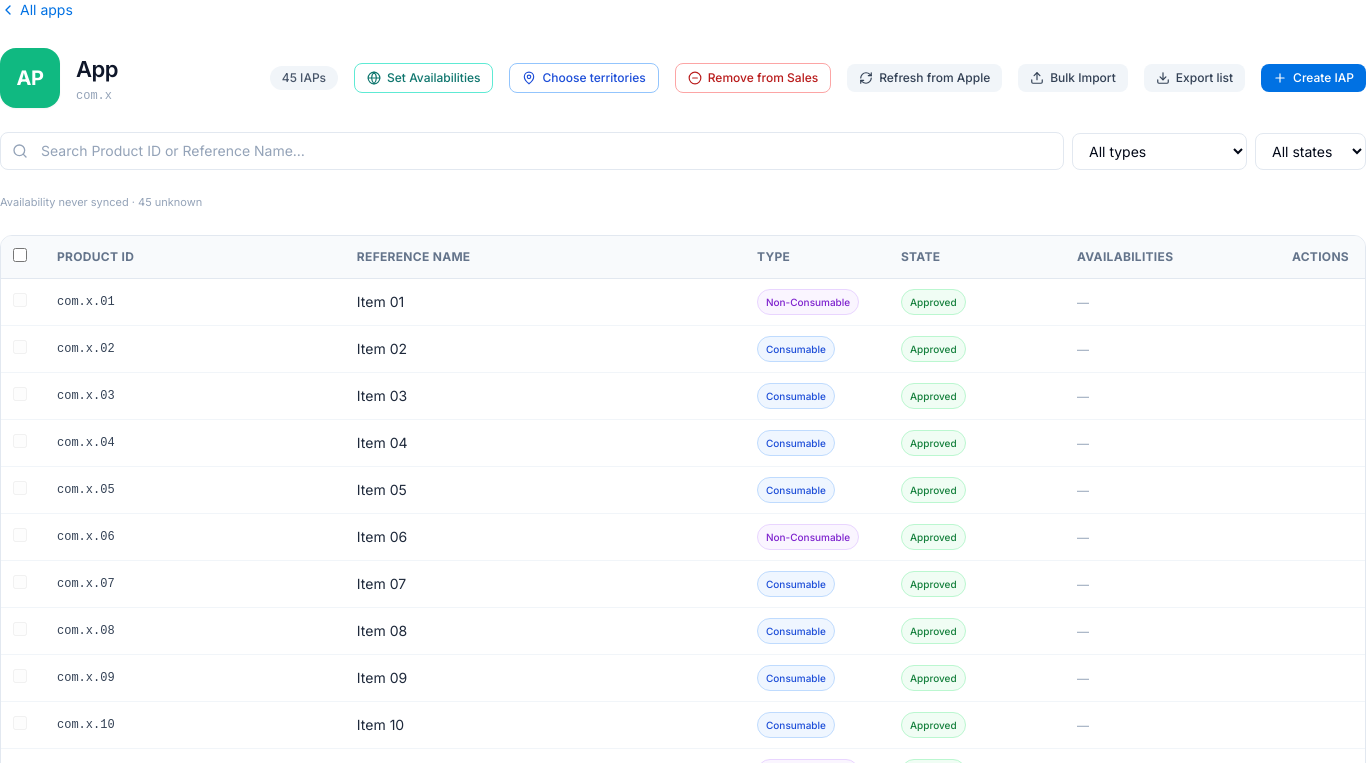
⚠ (A) and (B) have DIFFERENT scopes, and that is the whole of M7 › (B) takes exactly this page — 20, not 45
Step 1. Click the button "Export list" → click(1194, 78), box [1144,64,1245,92]
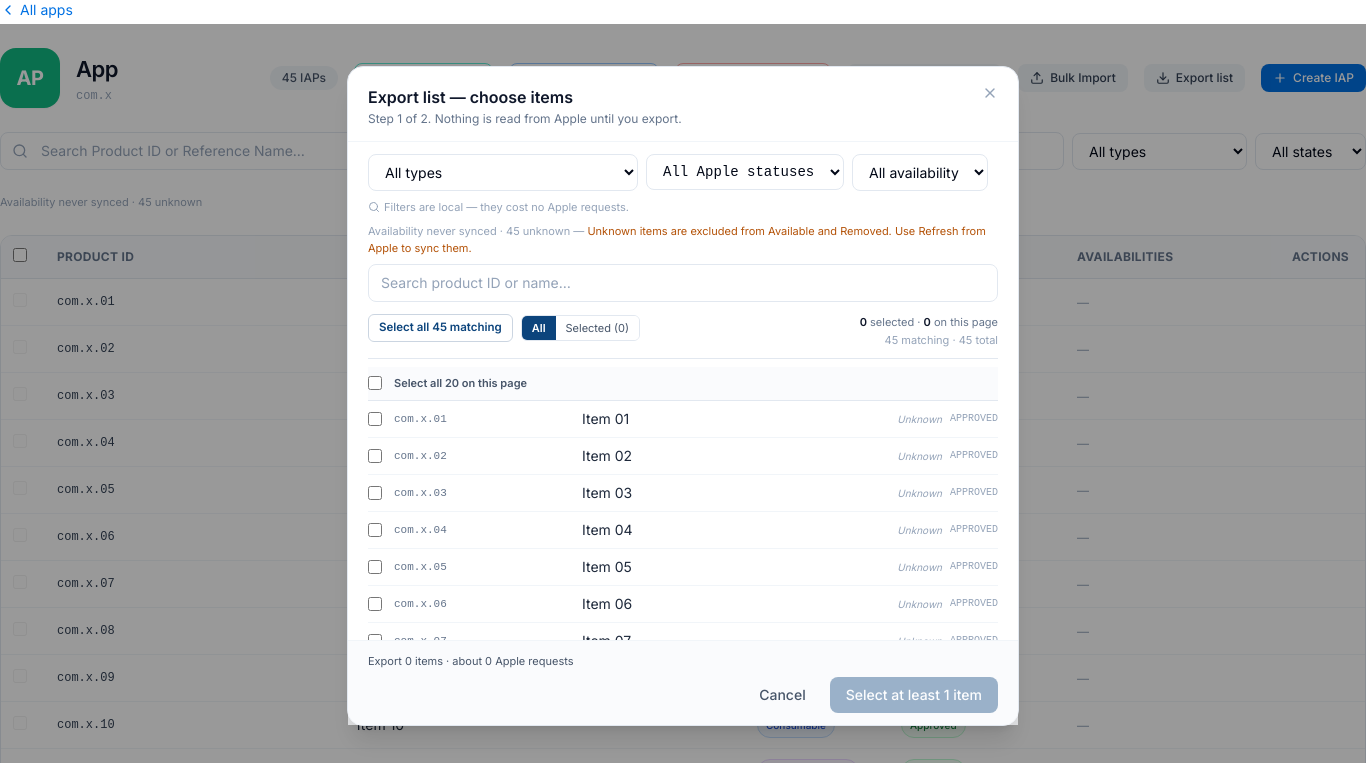
Step 2. Click the checkbox with test id "select-all-in-page" → click(375, 383), box [368,376,382,390]
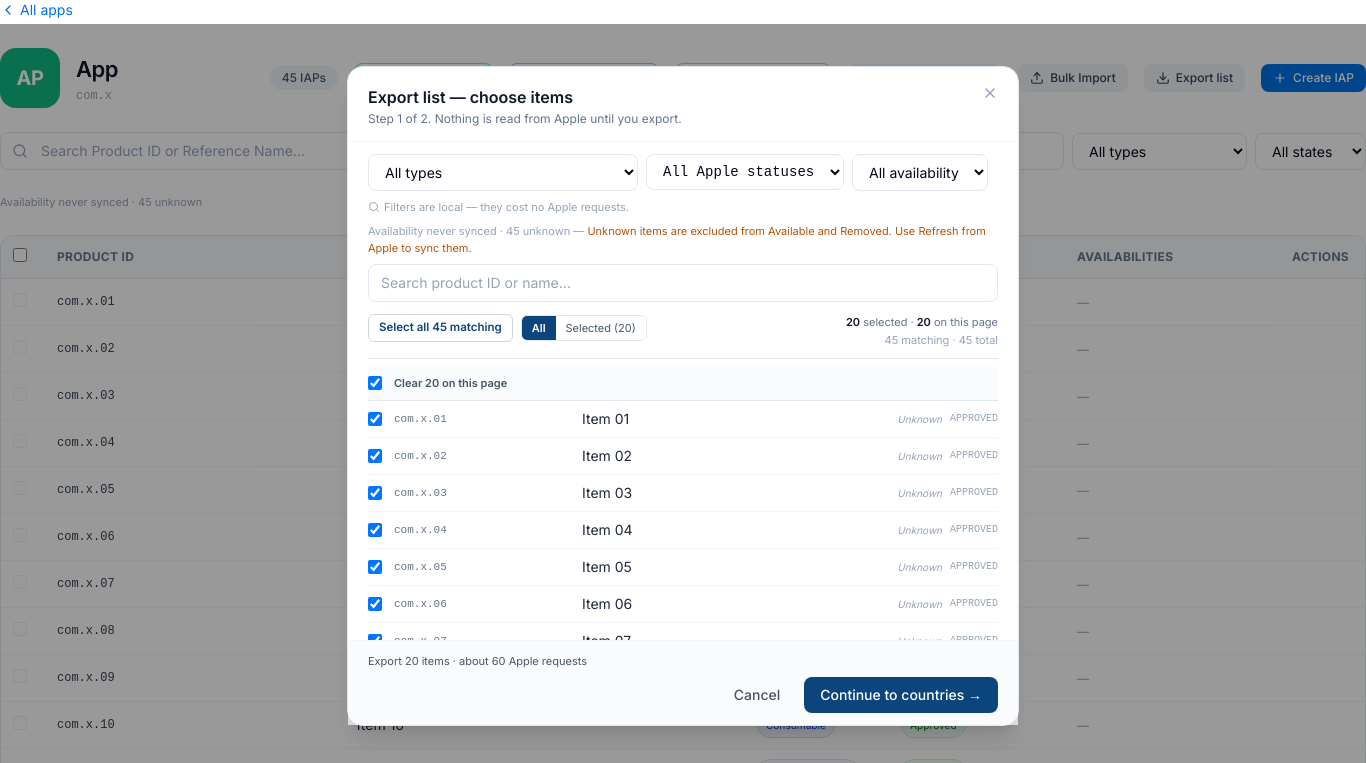
expect the element with test id "selection-counts" shows "20 selected": met, box [846,314,998,350]
expect the element with test id "selection-counts" shows "20 on this page": met, box [846,314,998,350]
